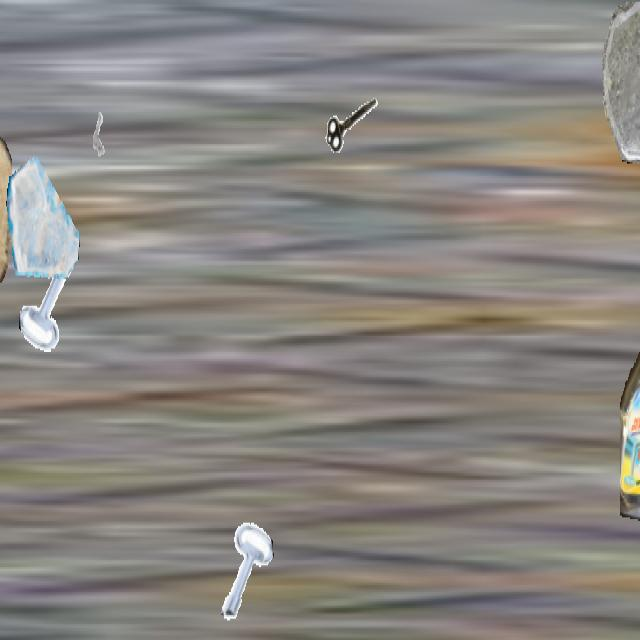glass: (6, 151, 80, 283), (597, 2, 640, 165)
metal: (19, 247, 81, 357), (214, 516, 274, 622), (323, 74, 381, 178), (80, 92, 118, 160)
plastic: (620, 268, 640, 524)
wood: (0, 119, 11, 336)
